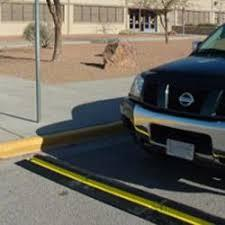Bump: (13, 150, 224, 224)
